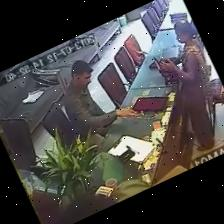person: (160, 21, 213, 151), (64, 61, 136, 137), (60, 195, 116, 223)
